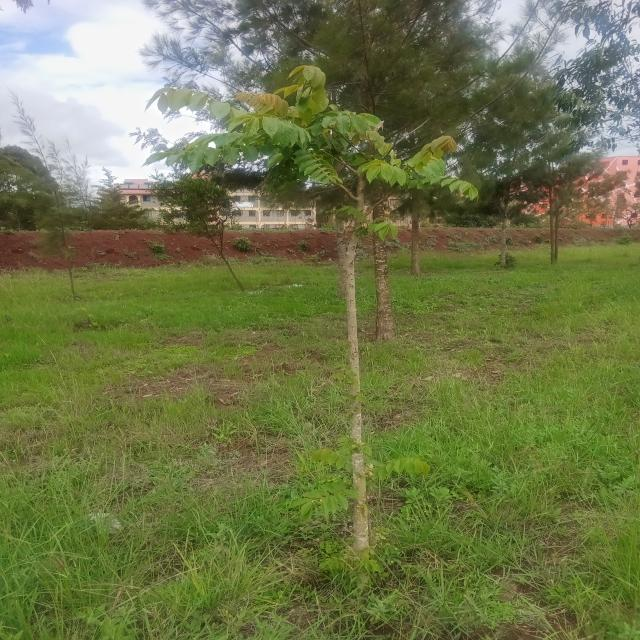Polyscias Kikuyensis: (125, 59, 632, 574)
